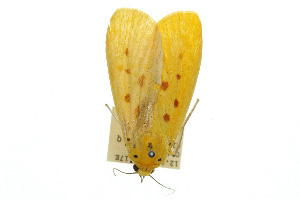Agape chloropyga: (102, 8, 203, 195)
moth: (102, 8, 203, 195)
